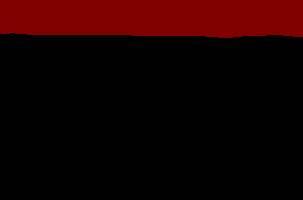Sky: (1, 1, 302, 38)
